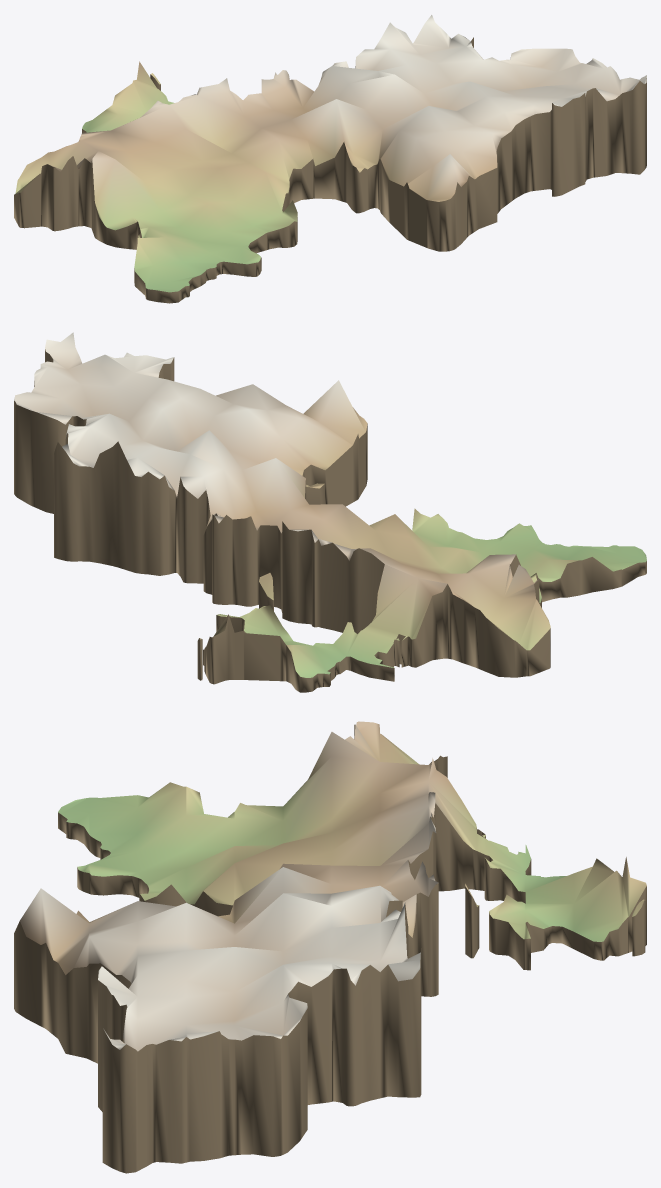
Rendered from TJK.glb.
The picture shows the model from 3 angles, top to bottom: view 1: azimuth 30°, elevation 25°; view 2: azimuth 150°, elevation 25°; view 3: azimuth 270°, elevation 25°; orthographic projection. The views are drawn at different scales.
Visible parts, largest first — view 1: TJK; view 2: TJK; view 3: TJK.
Boxes of the visible parts, box(x1,y1,x2,y2) form: TJK: box(14, 15, 646, 303); TJK: box(14, 332, 646, 692); TJK: box(14, 721, 646, 1173).
Size of the model in its own units: 1.71 by 0.338 by 1.22.
